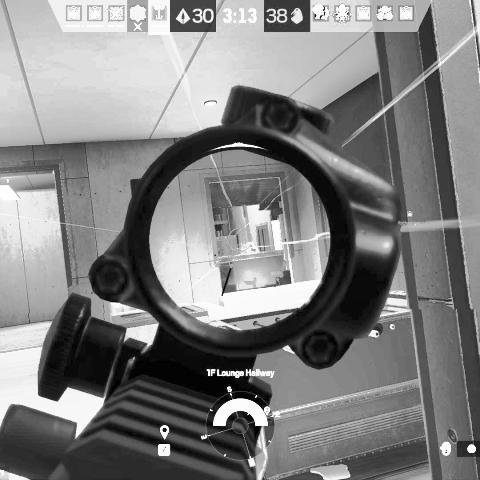Character: (246, 242, 258, 253)
Friend_label: (398, 210, 421, 226)
Head: (248, 242, 256, 252)
